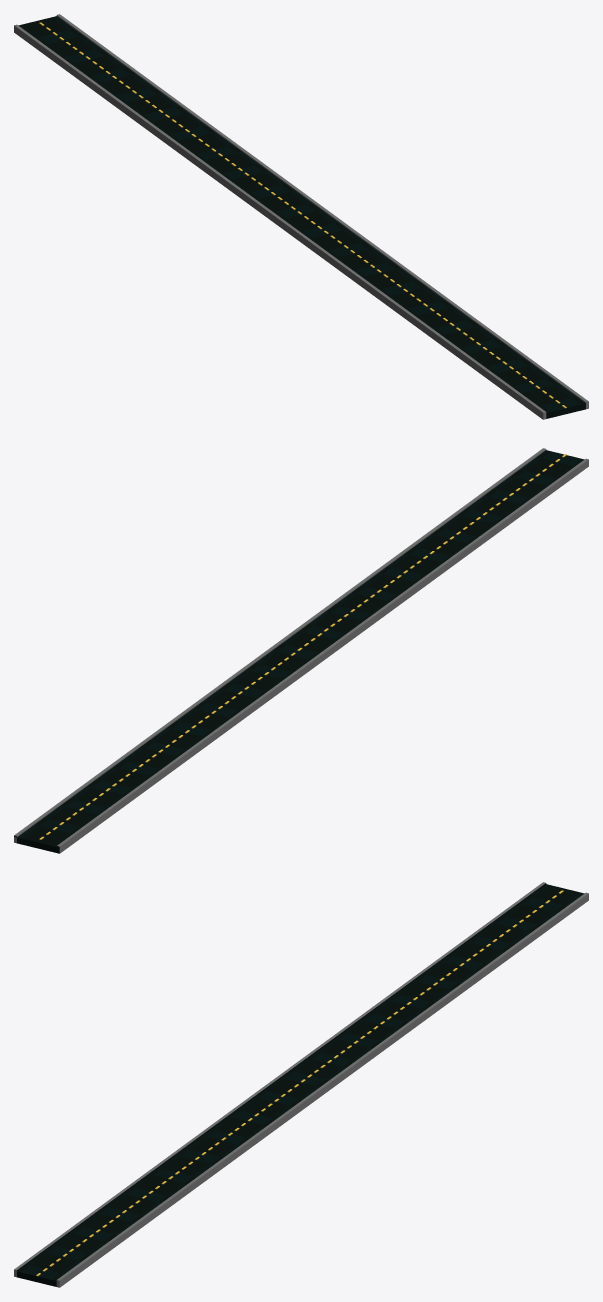
Rendered from RoadTileLongest.glb.
3 views of the same model, one above another, from view 1: azimuth 30°, elevation 25°; view 2: azimuth 150°, elevation 25°; view 3: azimuth 330°, elevation 25° (orthographic).
Parts seen in each view (by area): view 1: Road Tile; view 2: Road Tile; view 3: Road Tile.
Part boxes in pixels (x1,y1,x2,y2): Road Tile: (14, 14, 588, 419); Road Tile: (14, 448, 588, 853); Road Tile: (14, 882, 588, 1287).
Size of the model in its own units: 8 by 1.2 by 160.
1 material, 1 textured.
